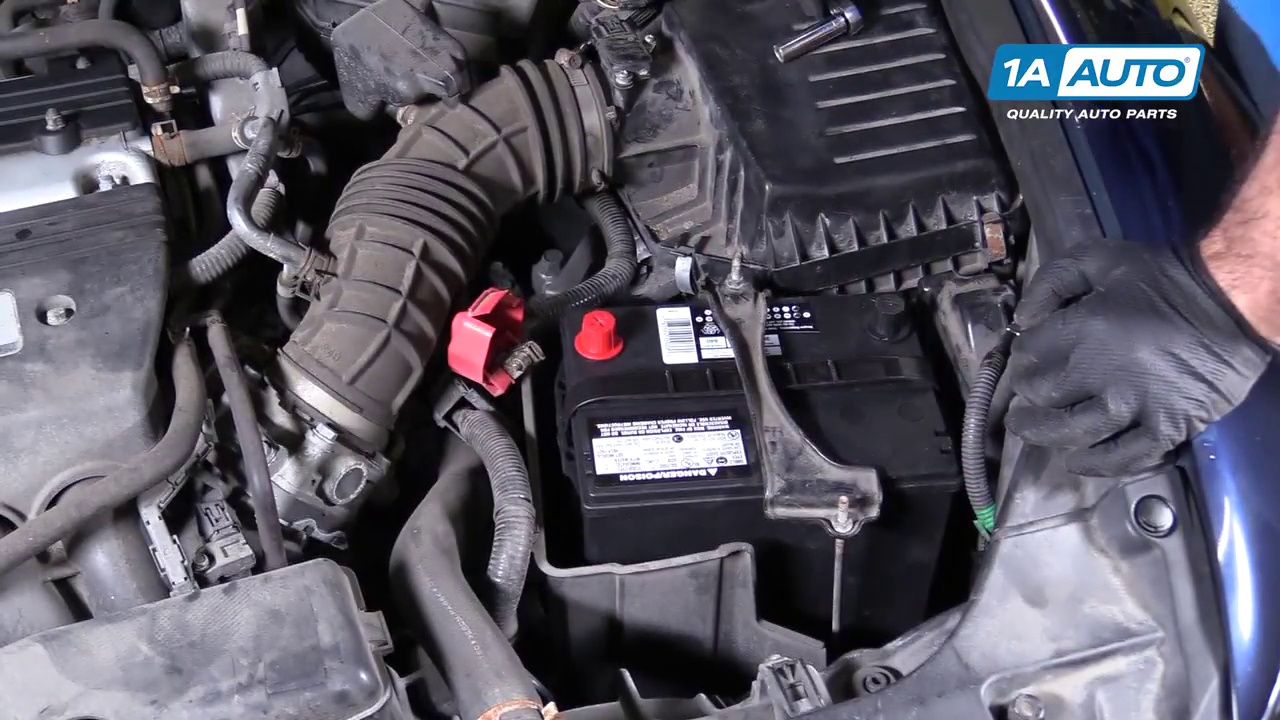battery: (549, 273, 954, 484)
pos_disconnected: (444, 263, 633, 402)
